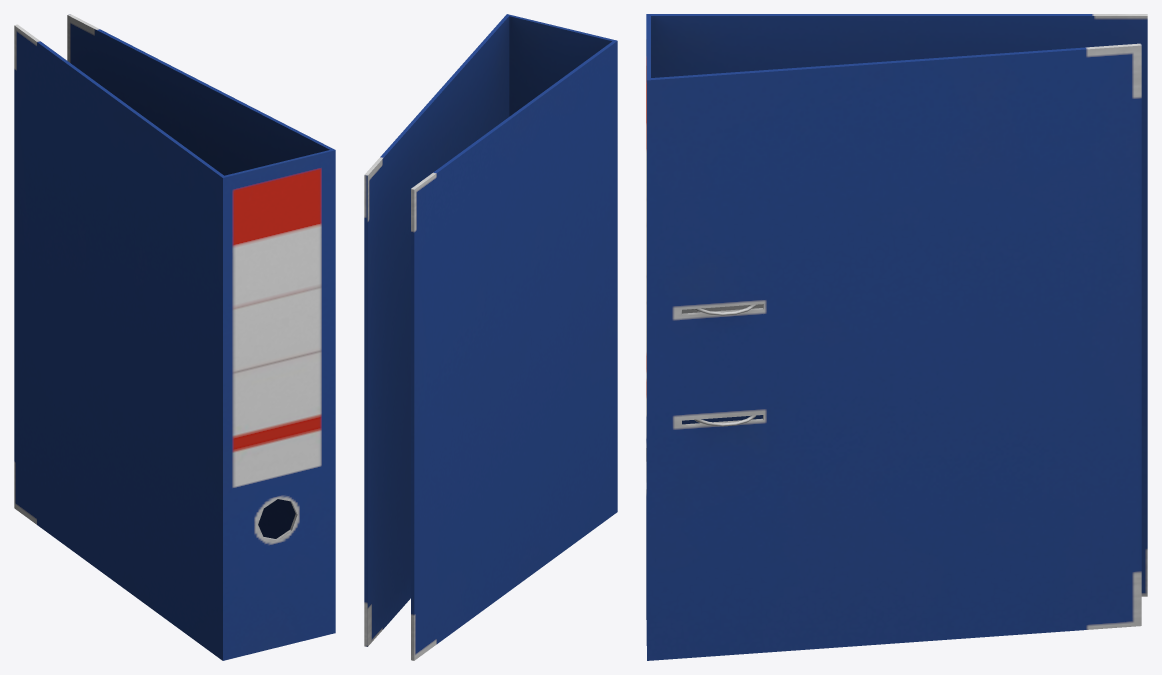
The model's file is ordnerBlue.fbx.
3 views of the same model, side by side, from view 1: azimuth 30°, elevation 25°; view 2: azimuth 150°, elevation 25°; view 3: azimuth 270°, elevation 25° (orthographic). The views are drawn at different scales.
Visible parts, largest first — view 1: ordner03; view 2: ordner03; view 3: ordner03.
Boxes of the visible parts, <box> form: ordner03: <box>14,14,335,660</box>; ordner03: <box>364,14,617,660</box>; ordner03: <box>646,14,1147,660</box>.
Bounding box in the file's own units: 0.1217 × 0.4957 × 0.3882.
